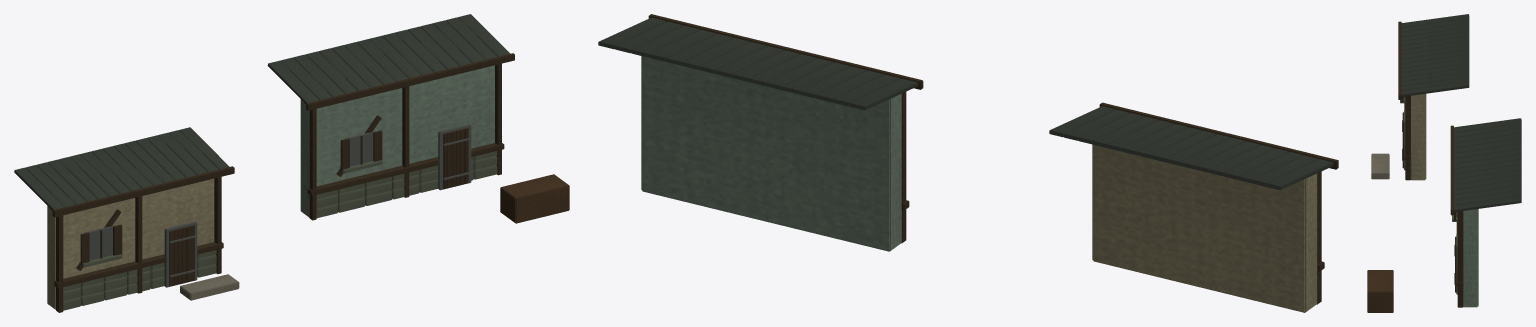
File: residential-v1.glb
3 renders of one model, left to right at view 1: azimuth 30°, elevation 25°; view 2: azimuth 150°, elevation 25°; view 3: azimuth 270°, elevation 25°, orthographic. The views are drawn at different scales.
Visible parts, largest first — view 1: Plaster frontage.001, Overlapping roof board.016, Overlapping roof board, Plaster frontage, Timber upright.003, Timber upright, Stone footing.021, Stone footing, Water trough, Eave fascia.001, Eave fascia, Door recess.001 (+2 smaller); view 2: Plaster frontage.001, Plaster frontage, Overlapping roof board.016, Overlapping roof board, Eave fascia.001, Eave fascia, Timber upright.003, Timber upright; view 3: Overlapping roof board.016, Overlapping roof board, Plaster frontage.001, Plaster frontage, Water trough, Timber upright.003, Timber upright, Doorstep, Eave fascia.001, Eave fascia, Door recess.001, Door recess.
Boxes of the visible parts, x1,y1,x2,y2 form: Plaster frontage.001: [300, 65, 494, 217]; Overlapping roof board.016: [267, 14, 509, 103]; Overlapping roof board: [14, 127, 229, 210]; Plaster frontage: [47, 178, 214, 309]; Timber upright.003: [307, 63, 504, 220]; Timber upright: [54, 177, 223, 312]; Stone footing.021: [316, 151, 497, 218]; Stone footing: [63, 250, 216, 310]; Water trough: [500, 174, 569, 223]; Eave fascia.001: [306, 53, 514, 110]; Eave fascia: [52, 166, 234, 217]; Door recess.001: [345, 124, 471, 190]; Plaster frontage.001: [641, 56, 901, 251]; Plaster frontage: [1092, 144, 1317, 312]; Overlapping roof board.016: [598, 17, 918, 110]; Overlapping roof board: [1049, 106, 1333, 190]; Eave fascia.001: [648, 14, 923, 89]; Eave fascia: [1099, 102, 1338, 169]; Timber upright.003: [901, 91, 909, 243]; Timber upright: [1317, 171, 1324, 304]; Overlapping roof board.016: [1454, 118, 1521, 212]; Overlapping roof board: [1401, 14, 1469, 96]; Plaster frontage.001: [1463, 209, 1478, 307]; Plaster frontage: [1411, 93, 1426, 180]; Water trough: [1367, 270, 1393, 312]; Timber upright.003: [1454, 211, 1463, 307]; Timber upright: [1401, 96, 1410, 180]; Doorstep: [1371, 153, 1389, 179]; Eave fascia.001: [1450, 125, 1453, 215]; Eave fascia: [1398, 21, 1401, 99]; Door recess.001: [1454, 212, 1457, 294]; Door recess: [1402, 97, 1405, 170].
Size of what is drawn, in the model's own units: 18.33 by 4.63 by 5.9.
10 materials, 8 textured.
